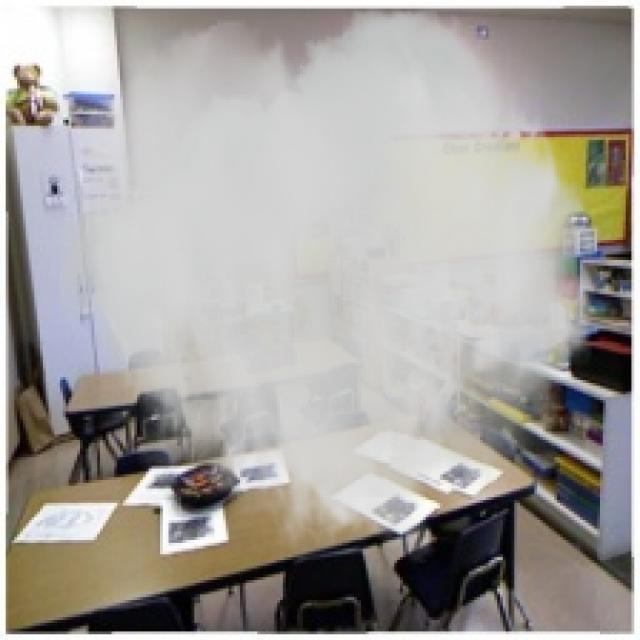Smoke: (60, 8, 600, 566)
